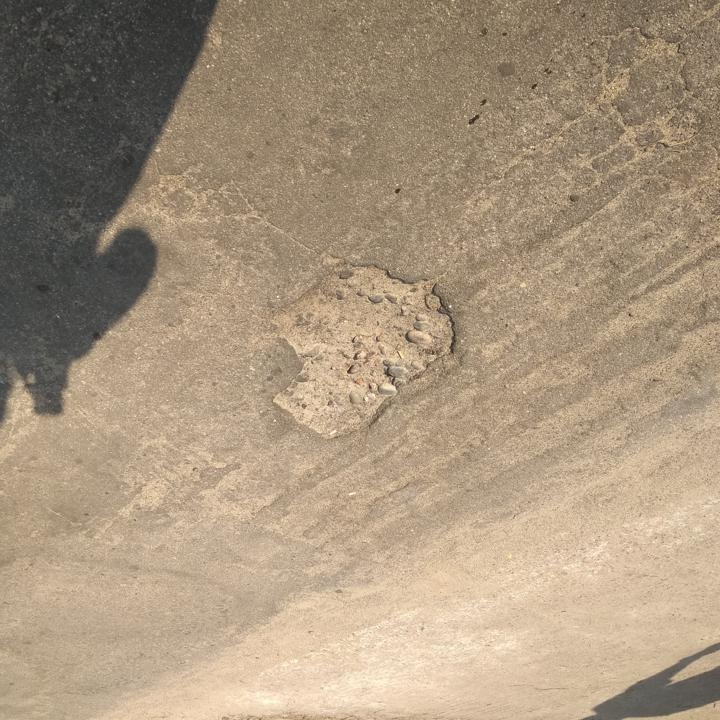pothole: (267, 261, 462, 443)
